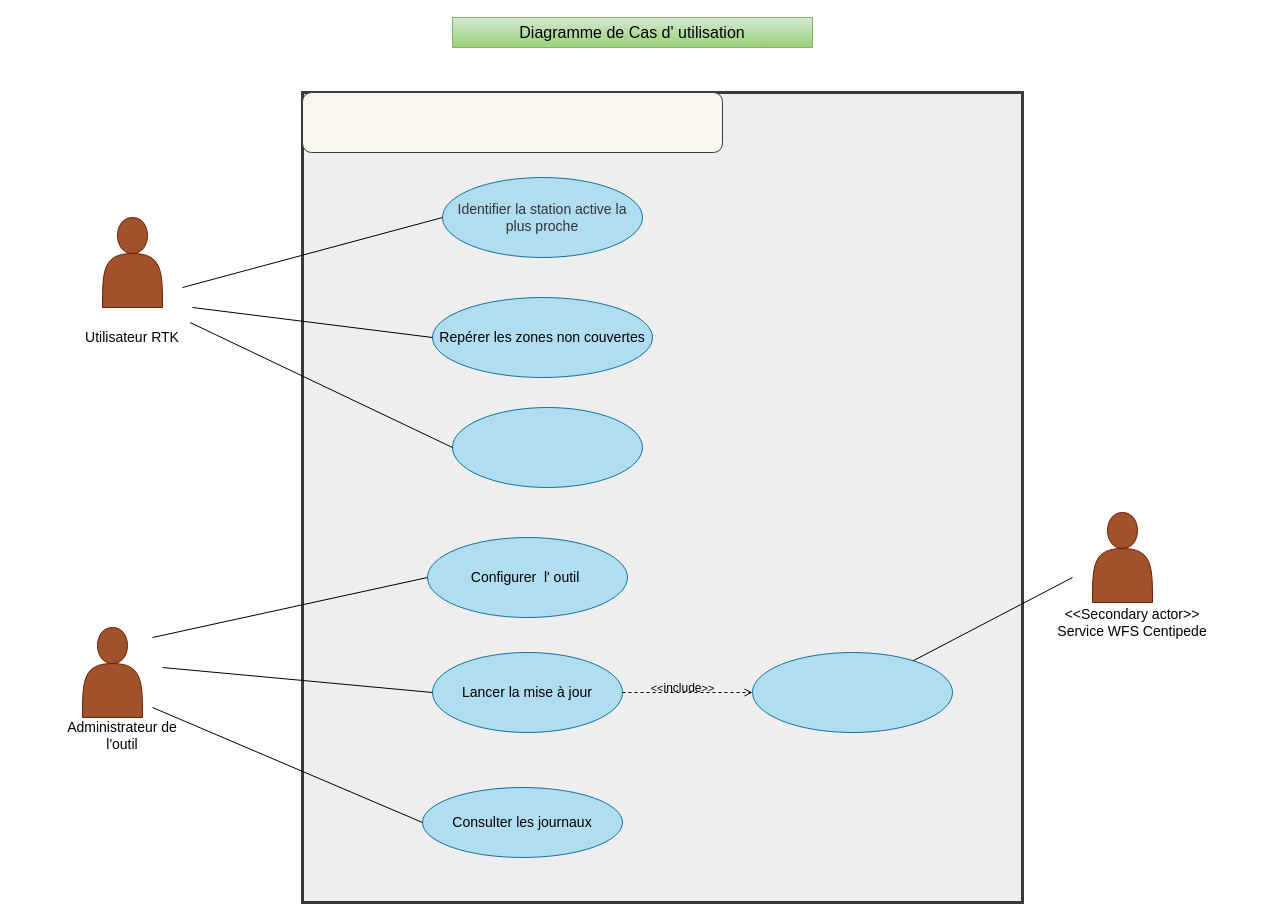
Image size: 1269x921. Some labels were removed from this diagram. Each missing label, with the centre of its shape:
Calcul automatique de graphe de Voronoï Centipede: point 512,122
Mettre à jour la couverture: point 852,692
Voir la date de dernière mise a jour: point 547,447
